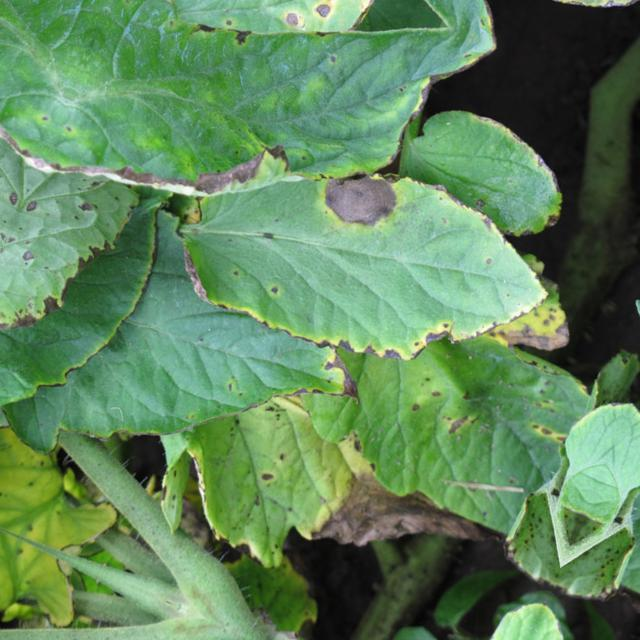Tomato Early blight leaf: (34, 0, 488, 322), (157, 89, 558, 422), (312, 267, 630, 556)
